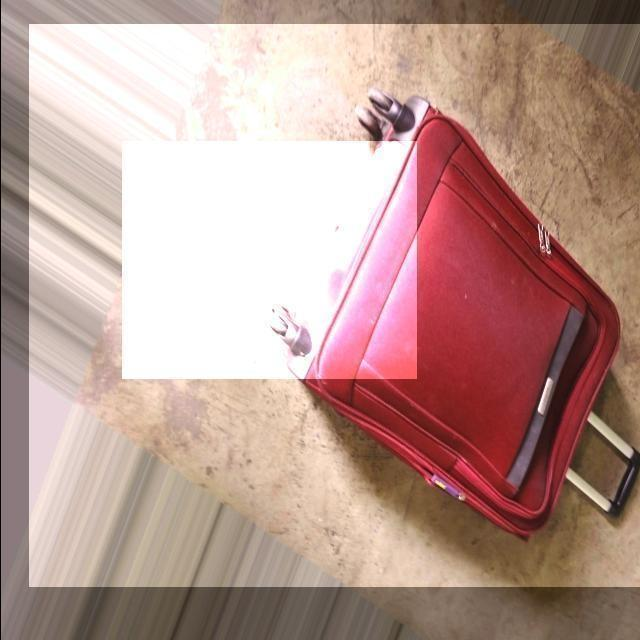Suitcase: (246, 74, 640, 544)
